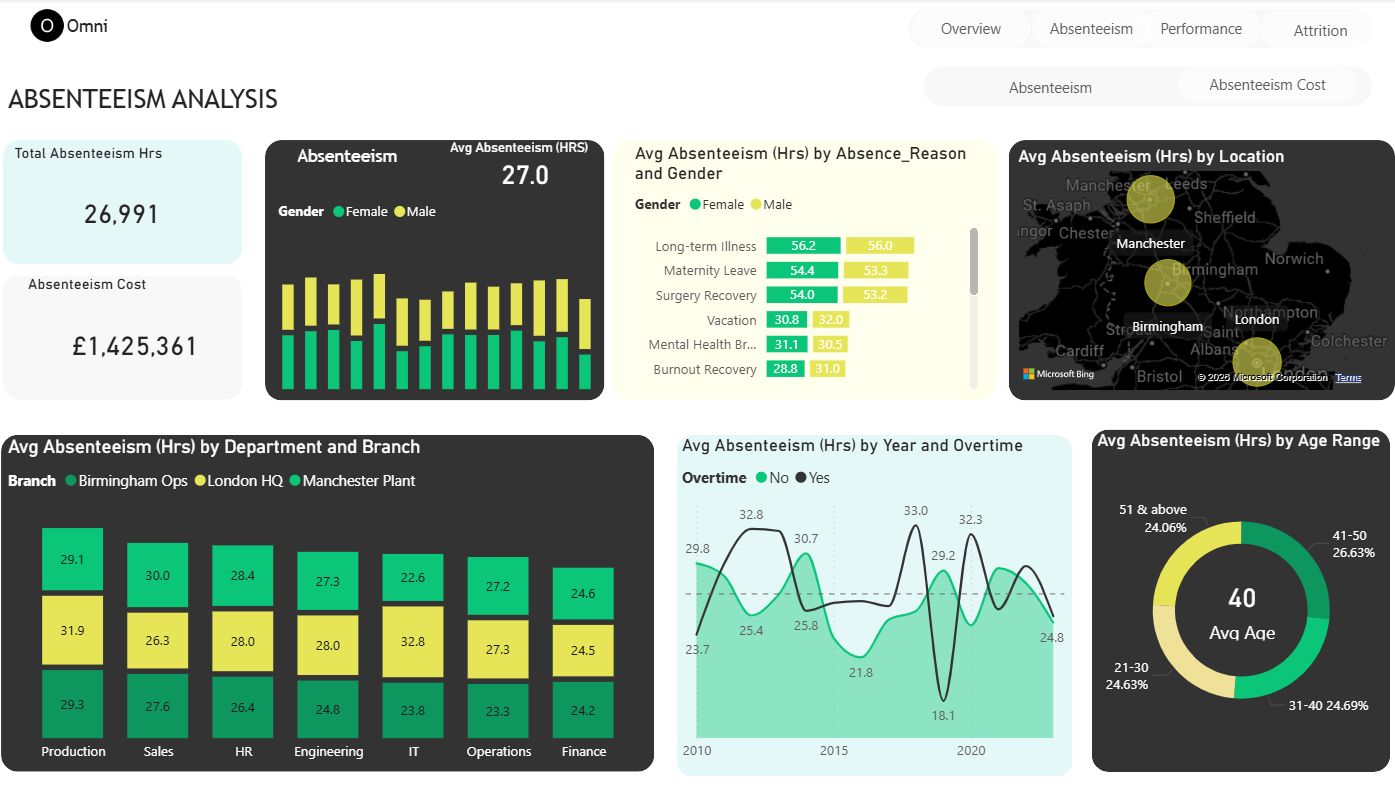

What the dashboard file says about the page in this screenshot:
{"tool":"powerbi","page":{"name":"ABSENTEEISM","canvas":[1280,720],"ordinal":1},"visuals":[{"type":"shape","box":[8,128.6,217.4,112.7],"z":0},{"type":"shape","box":[8,251.8,217.4,112.7],"z":1000},{"type":"shape","box":[560.7,128.6,348.6,235.9],"z":2000},{"type":"shape","box":[246.5,128.6,307.5,235.9],"z":3000},{"type":"shape","box":[7.7,396,591.8,305.1],"z":4000},{"type":"shape","box":[995.5,391,270.4,310.2],"z":5000},{"type":"textbox","box":[62.3,10.6,186.9,49],"z":6000},{"type":"textbox","box":[8,71.6,282.3,41.1],"z":7000},{"type":"image","box":[26.5,4,45.1,42.4],"z":8000},{"type":"textbox","box":[270.4,128.6,116.6,31.8],"z":9000},{"type":"columnChart","fields":{"Category":["Omni_Employee_HR_Dataset.Hire_Date.Variation.Date Hierarchy.Year","Omni_Employee_HR_Dataset.Hire_Date.Variation.Date Hierarchy.Quarter","Omni_Employee_HR_Dataset.Hire_Date.Variation.Date Hierarchy.Month","Omni_Employee_HR_Dataset.Hire_Date.Variation.Date Hierarchy.Day"],"Series":["Omni_Employee_HR_Dataset.Gender"],"Y":["Absenteeism Measures.Avg Absenteeism (Hrs)"]},"box":[253.2,173.6,295.6,186.9],"z":10000},{"type":"card","title":"Avg Absenteeism (HRS)","fields":{"Values":["Absenteeism Measures.Avg Absenteeism (Hrs)"]},"box":[409.6,128.6,145.8,47.7],"z":11000},{"type":"card","title":"Absenteeism Cost","fields":{"Values":["Absenteeism Measures.Absenteeism Cost"]},"box":[26.5,251.8,204.1,108.7],"z":12000},{"type":"columnChart","fields":{"Category":["Omni_Employee_HR_Dataset.Department","Omni_Employee_HR_Dataset.Job_Role"],"Series":["Omni_Employee_HR_Dataset.Branch"],"Y":["Absenteeism Measures.Avg Absenteeism (Hrs)"]},"box":[8,396.3,591.2,303.5],"z":13000},{"type":"shape","box":[829.2,9.1,420.2,35.8],"z":14000},{"type":"actionButton","box":[831.8,9.1,108.7,35.8],"z":15000},{"type":"actionButton","box":[940.5,8.5,108.7,37.1],"z":16000},{"type":"actionButton","box":[1039.9,9.1,108.7,35.8],"z":17000},{"type":"actionButton","box":[1148.2,10.6,108.7,35.8],"z":18000},{"type":"card","title":"Total Absenteeism Hrs","fields":{"Values":["Absenteeism Measures.Total Absenteeism Hrs"]},"box":[14.6,132.6,204.1,108.7],"z":19000},{"type":"shape","box":[919.9,128.6,349.9,235.9],"z":20000},{"type":"shape","box":[619.5,396,359.1,309.7],"z":21000},{"type":"barChart","fields":{"Category":["Omni_Employee_HR_Dataset.Absence_Reason"],"Series":["Omni_Employee_HR_Dataset.Gender"],"Y":["Absenteeism Measures.Avg Absenteeism (Hrs)"]},"box":[576.6,131.2,320.8,228],"z":22000},{"type":"areaChart","fields":{"Category":["Omni_Employee_HR_Dataset.Hire_Date.Variation.Date Hierarchy.Year","Omni_Employee_HR_Dataset.Hire_Date.Variation.Date Hierarchy.Quarter","Omni_Employee_HR_Dataset.Hire_Date.Variation.Date Hierarchy.Month","Omni_Employee_HR_Dataset.Hire_Date.Variation.Date Hierarchy.Day"],"Series":["Omni_Employee_HR_Dataset.Overtime"],"Y":["Absenteeism Measures.Avg Absenteeism (Hrs)"]},"box":[619.5,396,359.1,303.6],"z":23000},{"type":"donutChart","fields":{"Y":["Absenteeism Measures.Avg Absenteeism (Hrs)"],"Category":["Omni_Employee_HR_Dataset.Age Range"]},"box":[995.5,391,270.4,308.8],"z":24000},{"type":"card","title":"Avg Absenteeism (HRS)","fields":{"Values":["Key Measures.Avg Age"]},"box":[1079,516.9,104.7,70.3],"z":25000},{"type":"map","fields":{"Size":["Absenteeism Measures.Avg Absenteeism (Hrs)"],"Category":["Omni_Employee_HR_Dataset.Location"]},"box":[923.9,133.9,346,226.7],"z":26000},{"type":"shape","box":[842.9,61.9,406.6,36.4],"z":27000},{"type":"actionButton","box":[1073.2,61.9,162.9,32.3],"z":28000},{"type":"actionButton","box":[863.1,61.9,189.9,36.4],"z":29000}]}

Visuals, with their boxes on the page's 1280x720 design canvas (x1, y1, x2, y2). These are canvas units, not pixel positions in the 1395x789 screenshot, which may show the page scaled, cropped or inside an application window:
shape: 8,129,225,241
shape: 8,252,225,364
shape: 561,129,909,364
shape: 246,129,554,364
shape: 8,396,600,701
shape: 996,391,1266,701
textbox: 62,11,249,60
textbox: 8,72,290,113
image: 26,4,72,46
textbox: 270,129,387,160
columnChart - Omni_Employee_HR_Dataset.Hire_Date.Variation.Date Hierarchy.Year x Omni_Employee_HR_Dataset.Hire_Date.Variation.Date Hierarchy.Quarter: 253,174,549,360
"Avg Absenteeism (HRS)" card: 410,129,555,176
"Absenteeism Cost" card: 26,252,231,360
columnChart - Omni_Employee_HR_Dataset.Department x Omni_Employee_HR_Dataset.Job_Role: 8,396,599,700
shape: 829,9,1249,45
actionButton: 832,9,940,45
actionButton: 940,8,1049,46
actionButton: 1040,9,1149,45
actionButton: 1148,11,1257,46
"Total Absenteeism Hrs" card: 15,133,219,241
shape: 920,129,1270,364
shape: 620,396,979,706
barChart - Omni_Employee_HR_Dataset.Absence_Reason x Omni_Employee_HR_Dataset.Gender: 577,131,897,359
areaChart - Omni_Employee_HR_Dataset.Hire_Date.Variation.Date Hierarchy.Year x Omni_Employee_HR_Dataset.Hire_Date.Variation.Date Hierarchy.Quarter: 620,396,979,700
donutChart - Absenteeism Measures.Avg Absenteeism (Hrs) x Omni_Employee_HR_Dataset.Age Range: 996,391,1266,700
"Avg Absenteeism (HRS)" card: 1079,517,1184,587
map - Absenteeism Measures.Avg Absenteeism (Hrs) x Omni_Employee_HR_Dataset.Location: 924,134,1270,361
shape: 843,62,1250,98
actionButton: 1073,62,1236,94
actionButton: 863,62,1053,98
